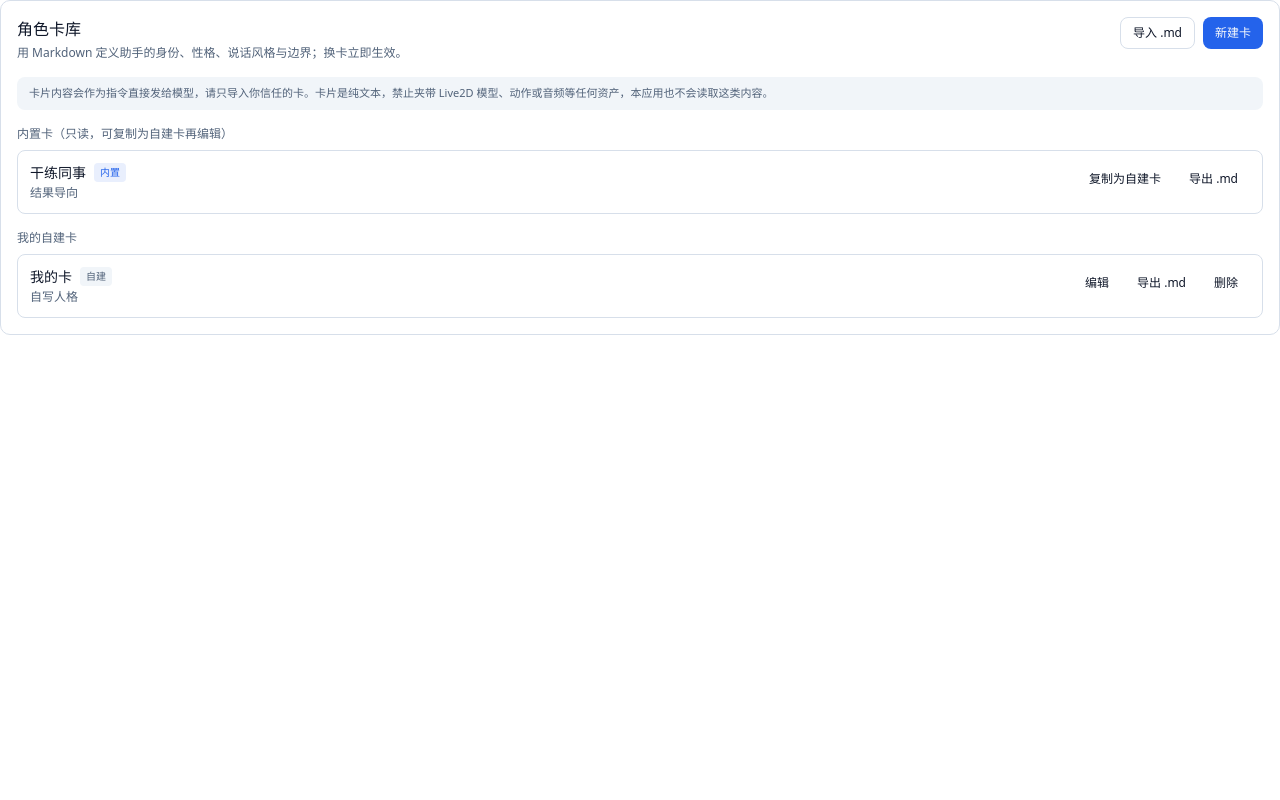
Test: v1.8 角色卡库面板 › 解析失败：422 诊断带行号内联展示，不关闭编辑器
The width and height of the screenshot is (1280, 800).
Expected: the list with test id "character-card-builtin-list" is shown, [17,150,1263,214]
Click the button with test id "character-card-create" at (1233,33), box [1203,17,1263,49]
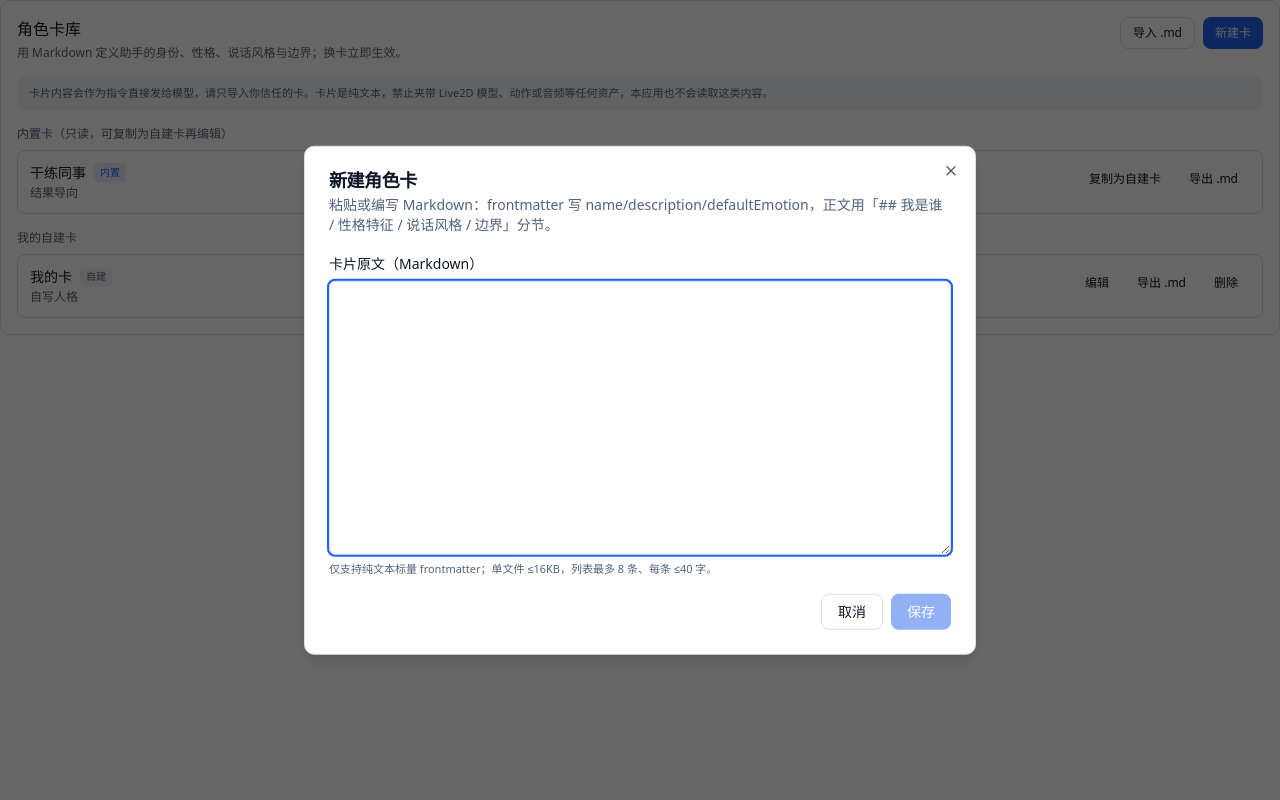
Type "没有 frontmatter" into the text box with test id "character-card-md" at (640,418), box [329,281,951,555]
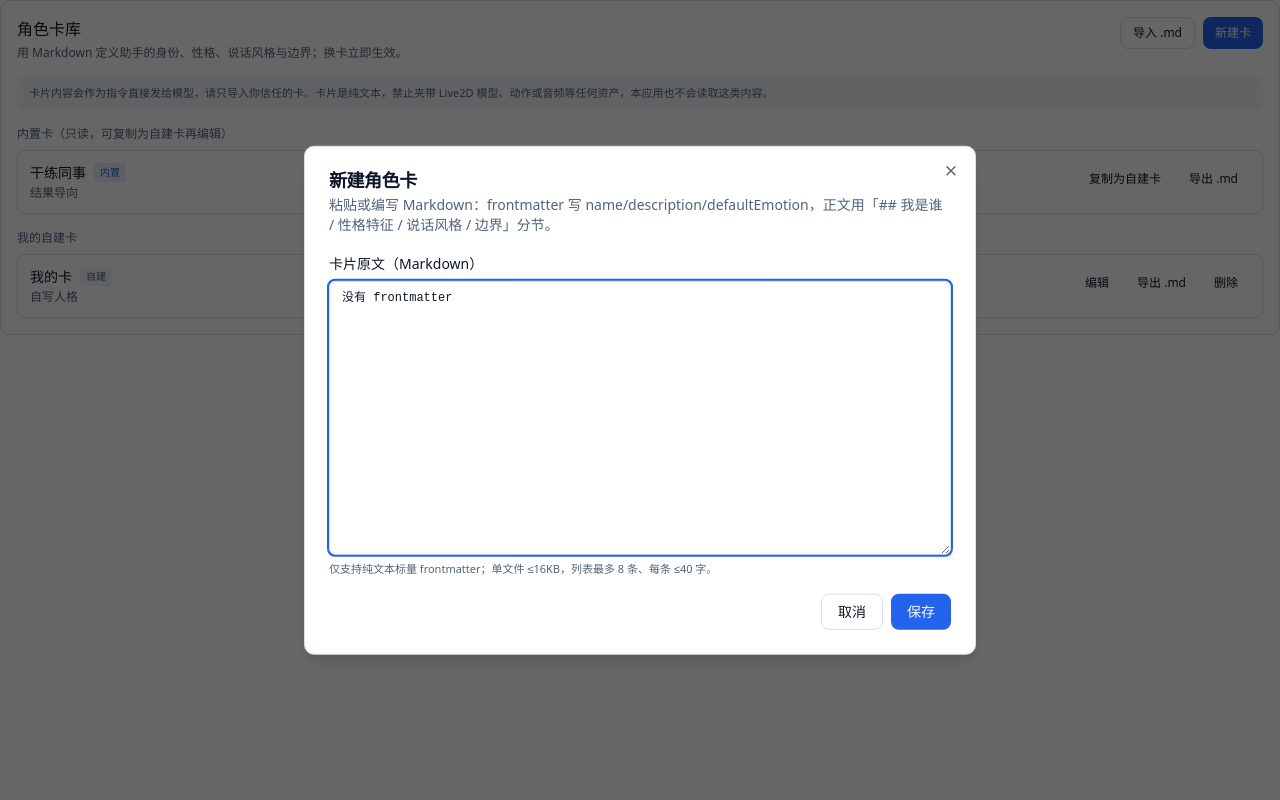
Click the button "保存" at (921,611), box [891,593,951,629]
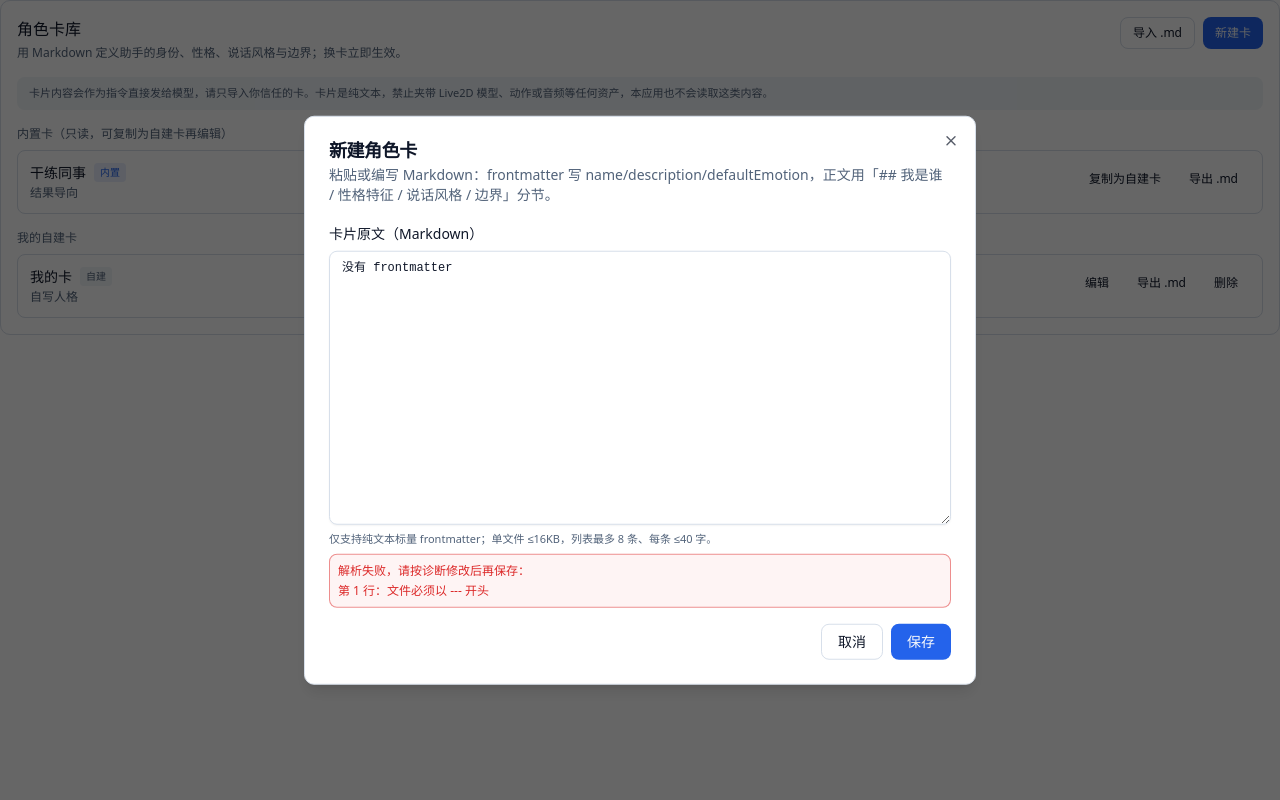
Expected: the list with test id "character-card-errors" shows "第 1 行", [338,581,387,598]
Expected: the list with test id "character-card-errors" shows "文件必须以", [387,581,489,598]
